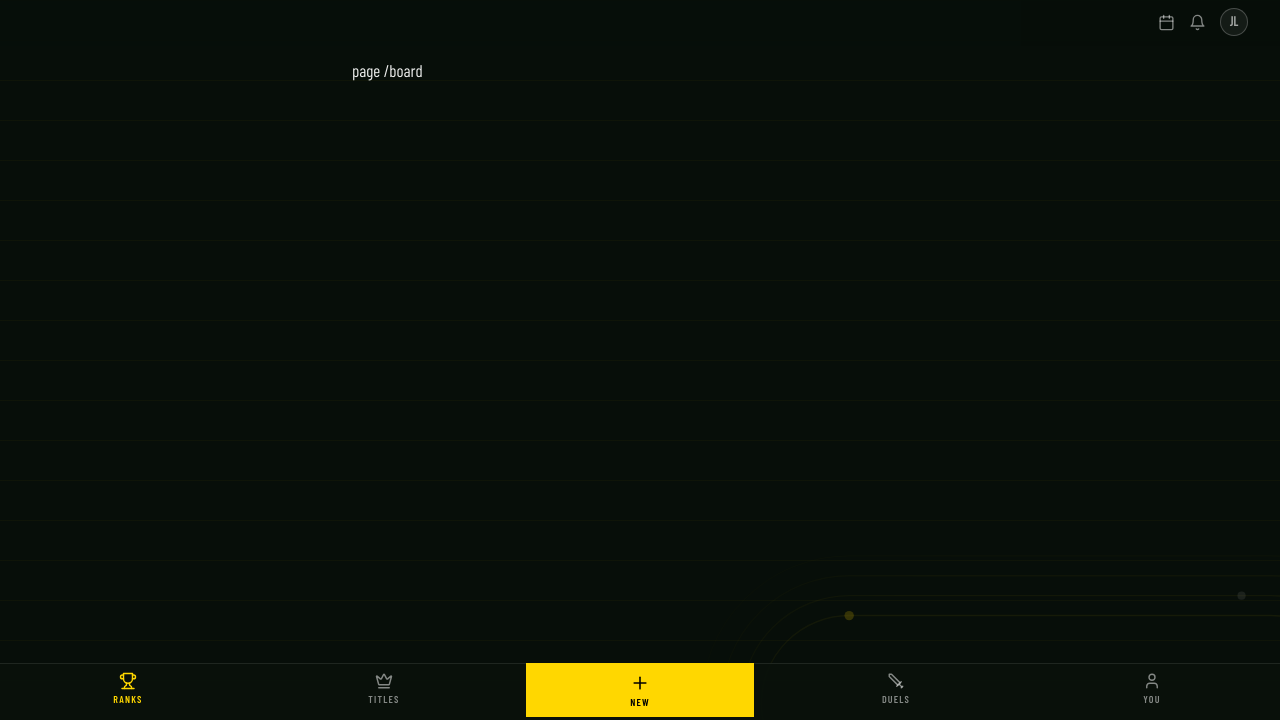
BottomBar: aktiv flik följer location › en tabb navigerar till sin route
This screenshot has width=1280, height=720.
Click the link "Duels": [896, 688] box [882,672,910,705]
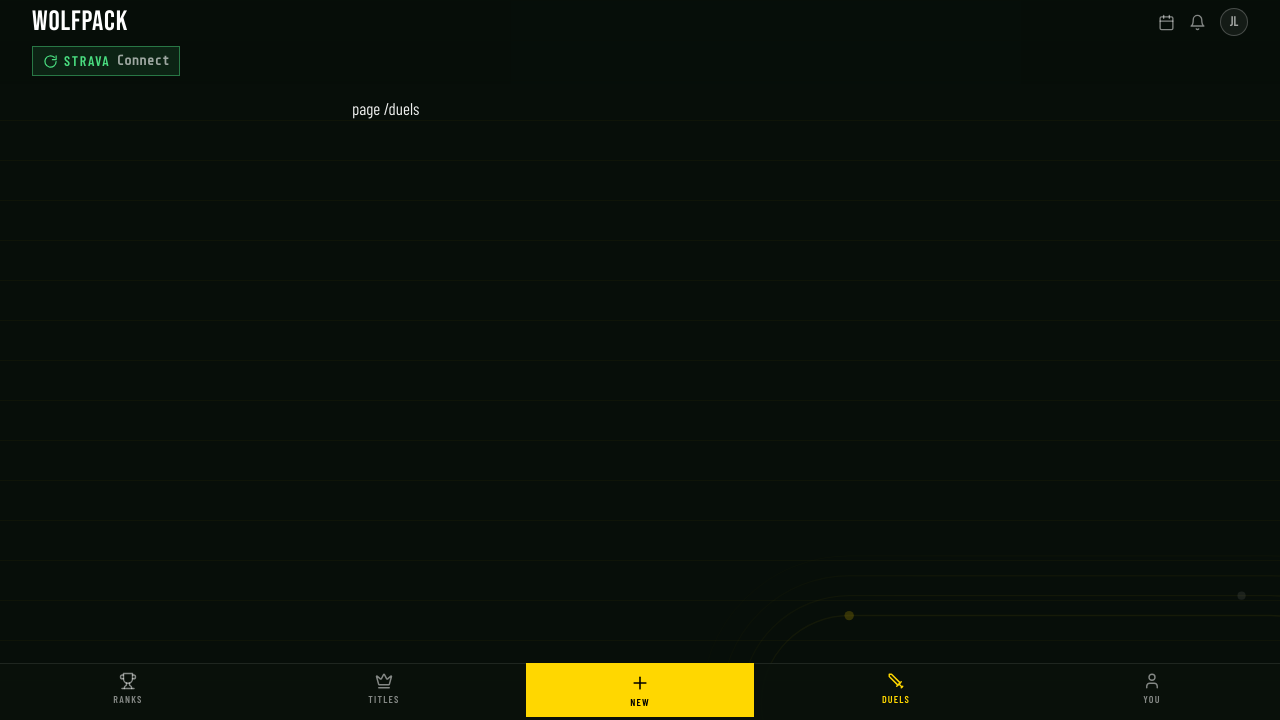
Expected: the text "Duels" is shown, [882,694,910,704]
Now the text "page /duels" is shown, box [352,98,419,118]
